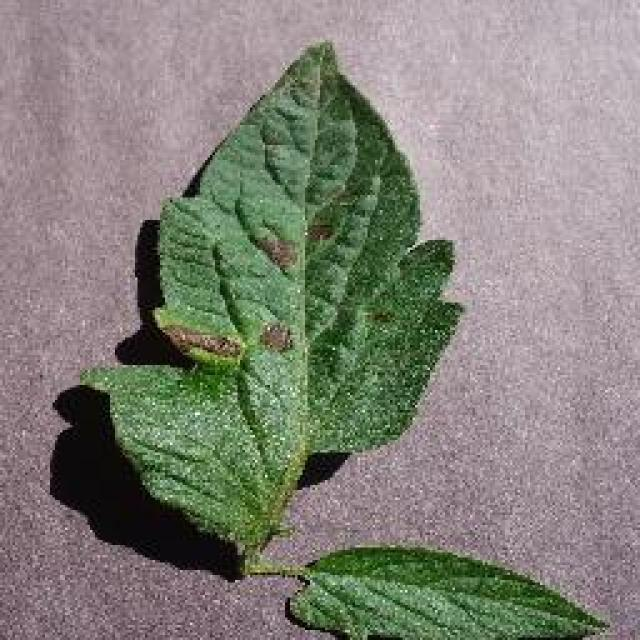Tomato Early blight leaf: (80, 98, 442, 548)
